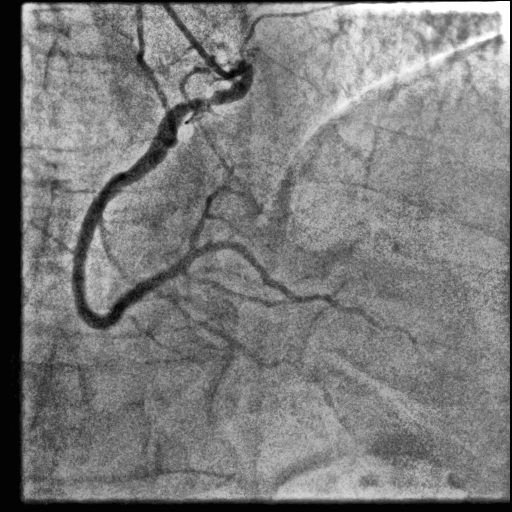pborca: (187, 185, 243, 251)
pda: (197, 241, 418, 344)
rca: (73, 60, 254, 329)
